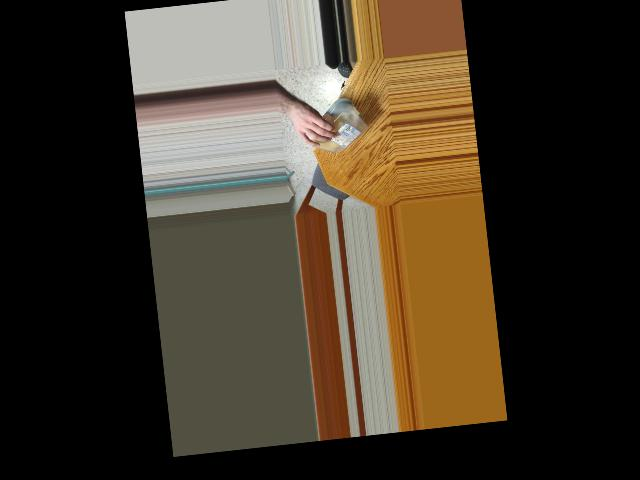cheese: (299, 97, 369, 156)
